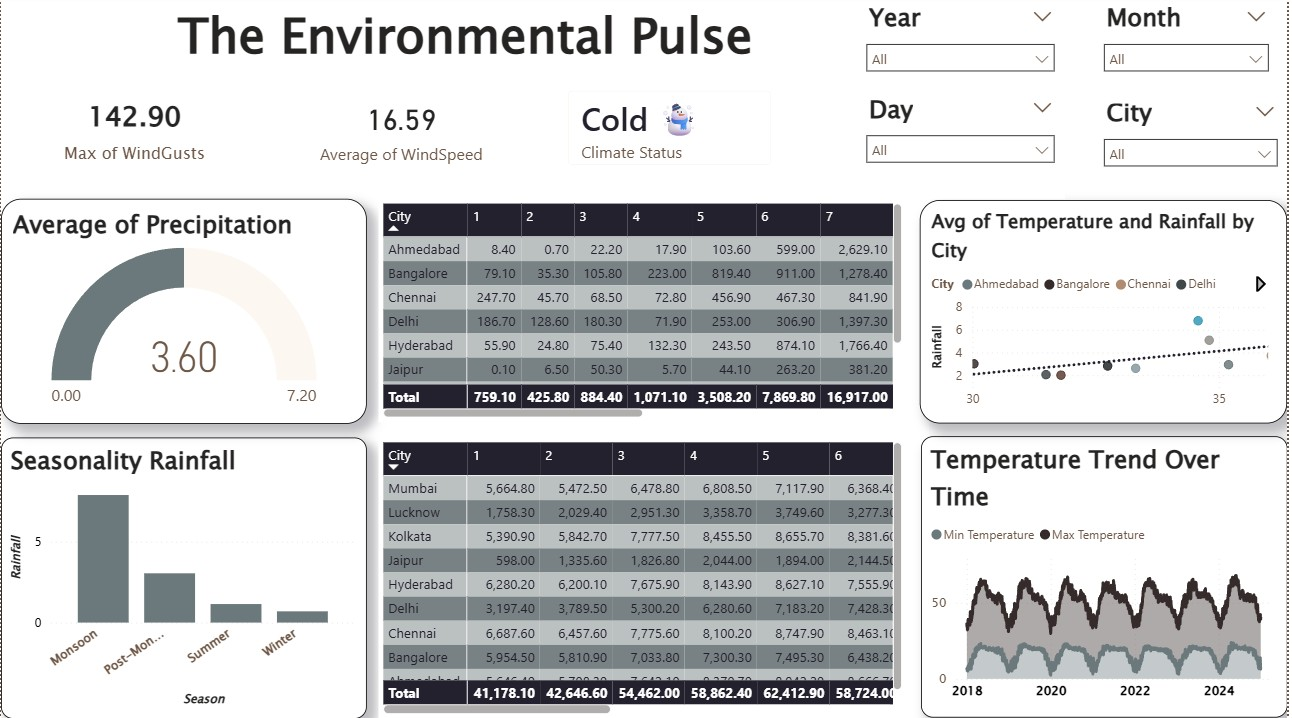

This screenshot's page, from the dashboard's own definition file:
{"tool":"powerbi","page":{"name":"Weather","canvas":[1280,720],"ordinal":1},"visuals":[{"type":"textbox","box":[0,0,924.3,94.5],"z":0},{"type":"slicer","fields":{"Values":["climatedata.Date.Variation.Date Hierarchy.Year"]},"box":[850.9,0,207.7,108.2],"z":1000},{"type":"slicer","fields":{"Values":["climatedata.City"]},"box":[1087.2,94.5,192.8,108.2],"z":2000},{"type":"slicer","fields":{"Values":["climatedata.Date.Variation.Date Hierarchy.Month"]},"box":[1087.2,0,184.1,108.2],"z":3000},{"type":"stackedAreaChart","title":"Temperature Trend Over Time","fields":{"Category":["climatedata.Date"],"Y":["Min(climatedata.Temperature_Min)","Max(climatedata.Temperature_Max)"]},"box":[915.6,439.1,364.5,279.9],"z":4000},{"type":"columnChart","title":"Seasonality Rainfall ","fields":{"Category":["climatedata.Season"],"Y":["Avg(climatedata.Rainfall)"]},"box":[0,440,364.3,280],"z":5000},{"type":"card","fields":{"Values":["Max(climatedata.WindGusts)"]},"box":[42.3,79.6,181.6,108.2],"z":6000},{"type":"card","fields":{"Values":["Avg(climatedata.WindSpeed)"]},"box":[307.3,79.6,182.9,108.2],"z":7000},{"type":"gauge","fields":{"Y":["Avg(climatedata.Precipitation)"]},"box":[0,202.9,364.3,224.3],"z":8000},{"type":"scatterChart","title":"Avg of Temperature and Rainfall by City","fields":{"X":["Avg(climatedata.Apparent_Temperature_Max)"],"Series":["climatedata.City"],"Y":["Avg(climatedata.Rainfall)"]},"box":[914.3,204,365.7,222.7],"z":9000},{"type":"pivotTable","fields":{"Rows":["climatedata.City"],"Columns":["climatedata.Month"],"Values":["Sum(climatedata.Rainfall)"]},"box":[375.7,202.8,526.2,222.7],"z":10000},{"type":"pivotTable","fields":{"Rows":["climatedata.City"],"Columns":["climatedata.Month"],"Values":["Sum(climatedata.Apparent_Temperature_Max)"]},"box":[375.7,440.4,526.2,279.9],"z":11000},{"type":"cardVisual","fields":{"Data":["Min(climatedata.Climate Status)"]},"box":[547.3,78.4,236.4,108.2],"z":12000},{"type":"slicer","fields":{"Values":["climatedata.Date.Variation.Date Hierarchy.Day"]},"box":[850.9,90.8,207.7,112],"z":13000}]}

Visuals, with their boxes in screenshot pixels (x1, y1, x2, y2), scaled from the page's 1280x720 canvas onto the 1292x718 screenshot:
textbox: (left=0, top=0, right=933, bottom=94)
slicer - climatedata.Date.Variation.Date Hierarchy.Year: (left=859, top=0, right=1069, bottom=108)
slicer - climatedata.City: (left=1097, top=94, right=1291, bottom=202)
slicer - climatedata.Date.Variation.Date Hierarchy.Month: (left=1097, top=0, right=1283, bottom=108)
"Temperature Trend Over Time" stackedAreaChart: (left=924, top=438, right=1291, bottom=717)
"Seasonality Rainfall " columnChart: (left=0, top=439, right=368, bottom=717)
card - Max(climatedata.WindGusts): (left=43, top=79, right=226, bottom=187)
card - Avg(climatedata.WindSpeed): (left=310, top=79, right=495, bottom=187)
gauge - Avg(climatedata.Precipitation): (left=0, top=202, right=368, bottom=426)
"Avg of Temperature and Rainfall by City" scatterChart: (left=923, top=203, right=1291, bottom=426)
pivotTable - climatedata.City x climatedata.Month: (left=379, top=202, right=910, bottom=424)
pivotTable - climatedata.City x climatedata.Month: (left=379, top=439, right=910, bottom=717)
cardVisual - Min(climatedata.Climate Status): (left=552, top=78, right=791, bottom=186)
slicer - climatedata.Date.Variation.Date Hierarchy.Day: (left=859, top=91, right=1069, bottom=202)
